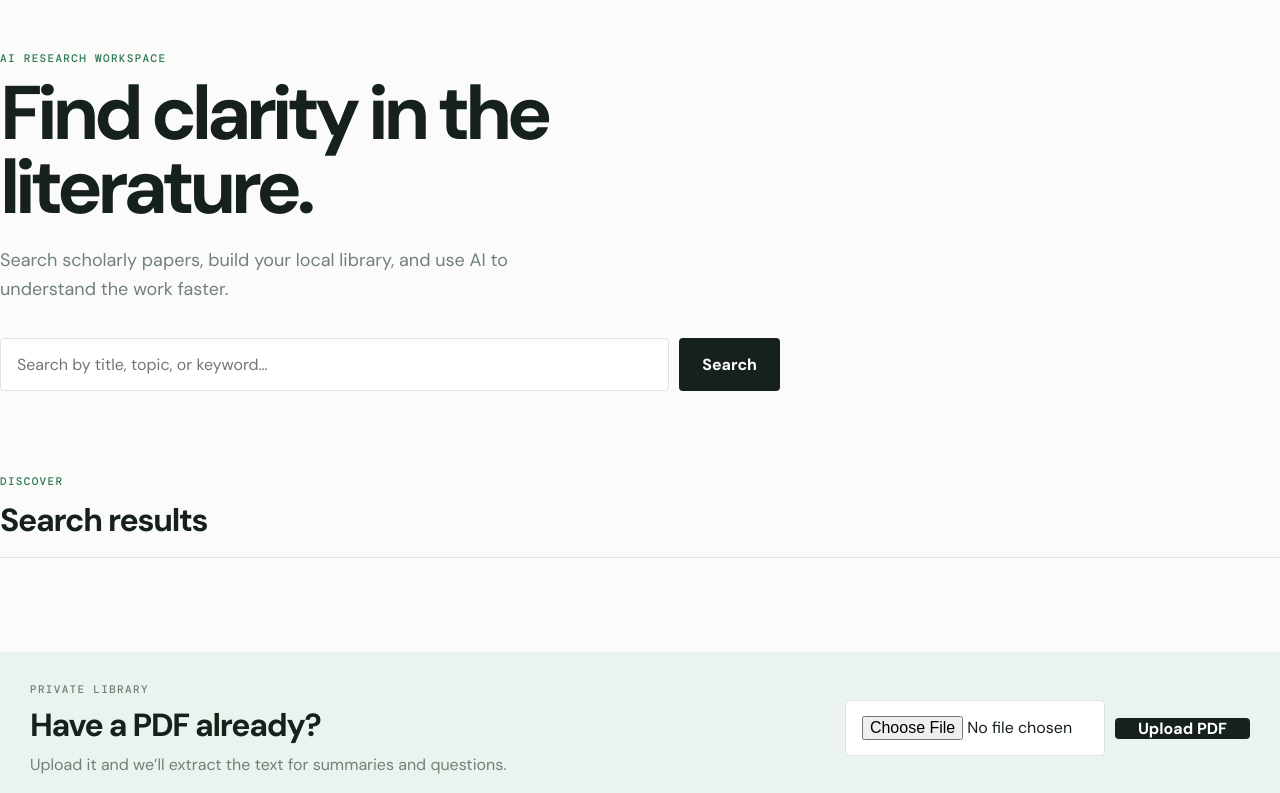
Test: search sorts multiple undated results after numeric string years
The image size is (1280, 793).
Type "AI" into the field with placeholder "Search by title, topic, or keyword…" at (335, 364), box [0,338,669,390]
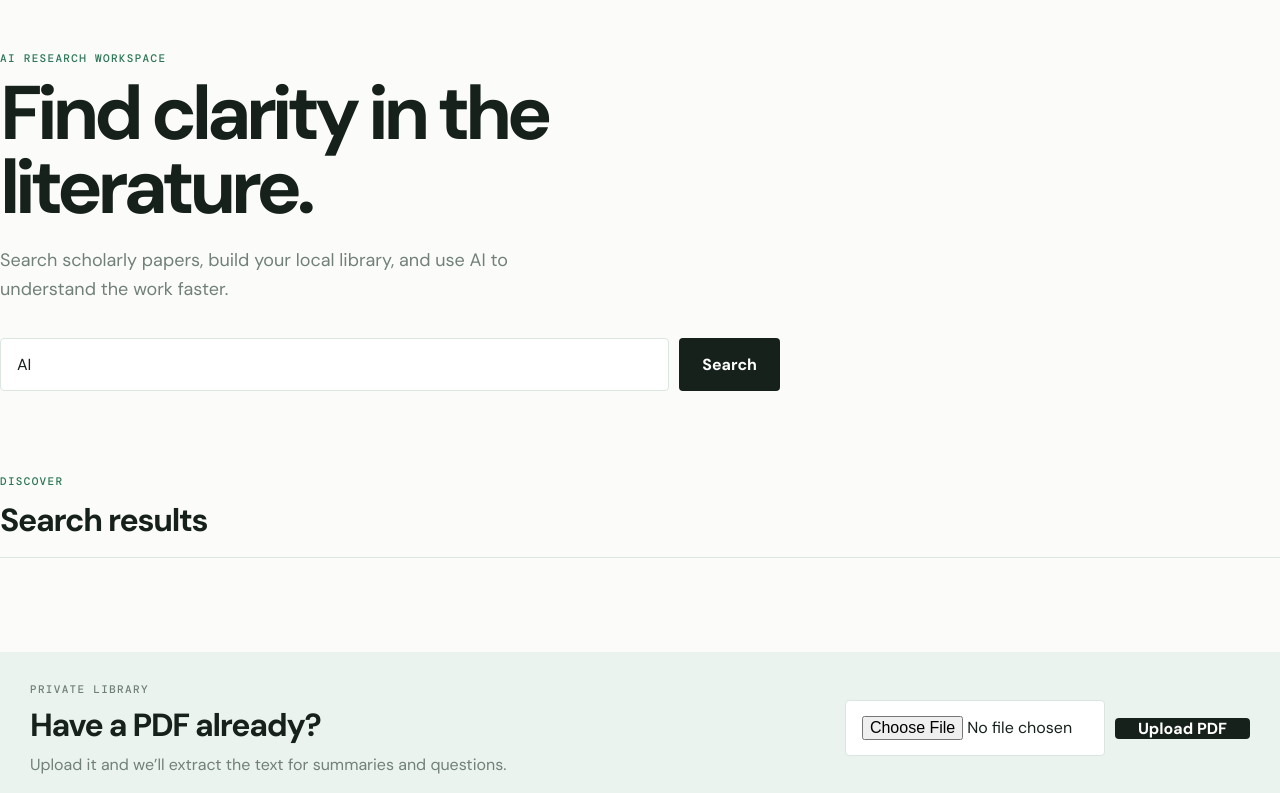
Click the button "Search" at (730, 364), box [679,338,780,390]
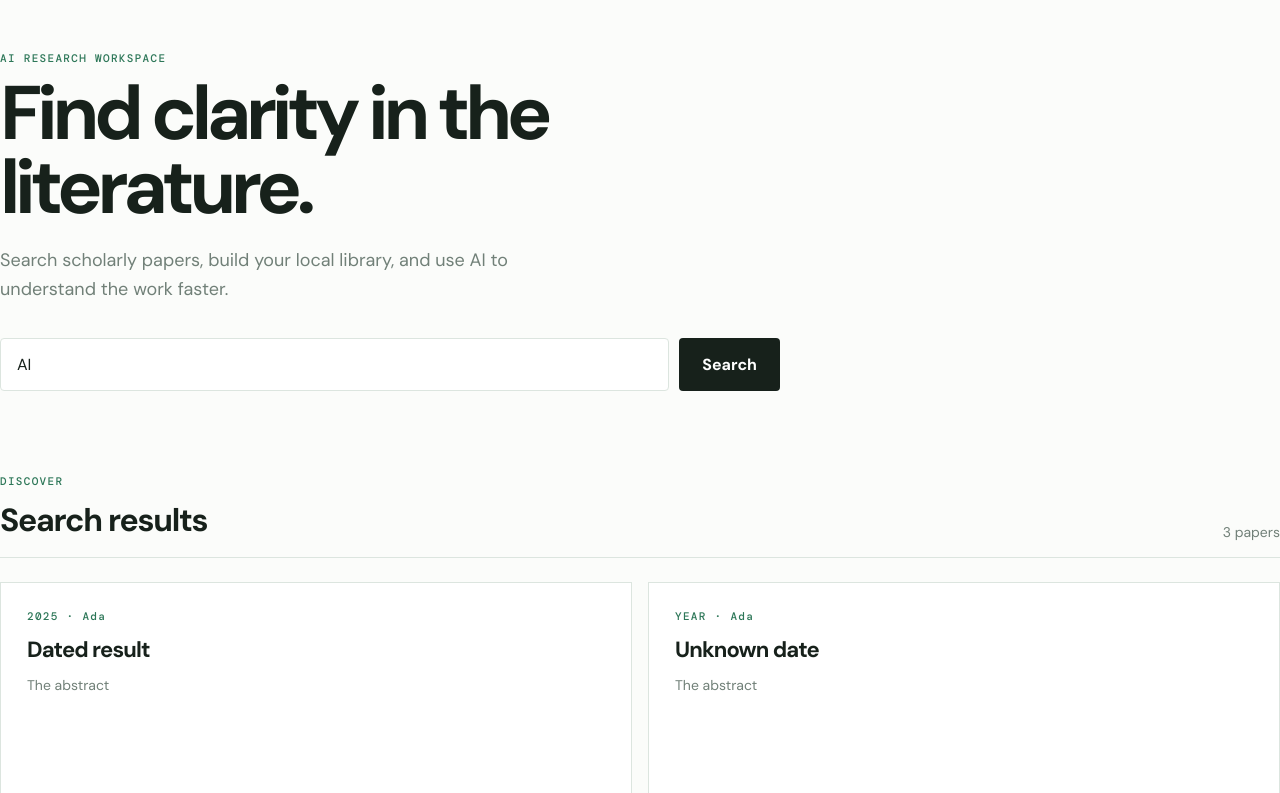
Check: the heading "Dated result" is shown, box [27,634,150,664]
